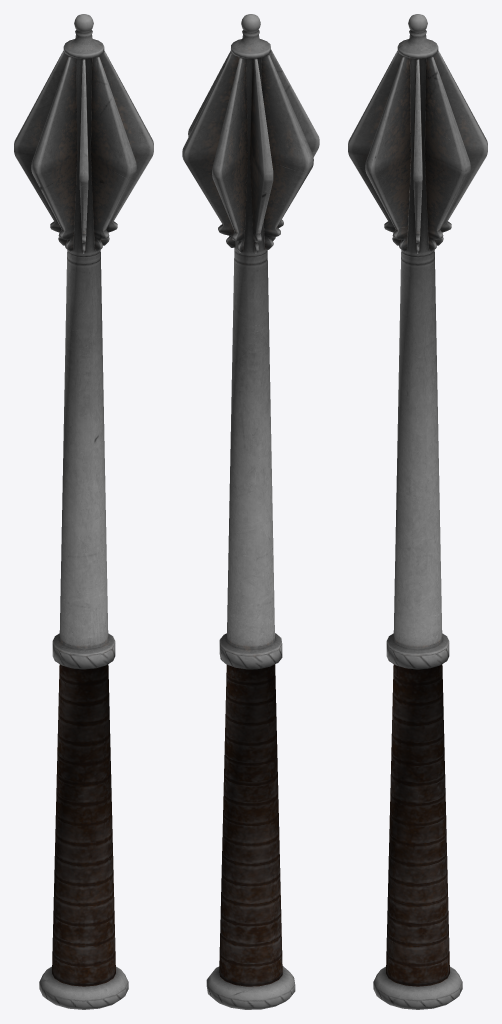
File: SM_Mace_04.fbx
3 renders of one model, left to right at view 1: azimuth 90°, elevation 25°; view 2: azimuth 150°, elevation 25°; view 3: azimuth 270°, elevation 25°, orthographic.
Parts seen in each view (by area): view 1: SM_Mace_04_LOD0; view 2: SM_Mace_04_LOD0; view 3: SM_Mace_04_LOD0.
Part boxes in pixels (bbox=[...]): SM_Mace_04_LOD0: bbox=[14, 14, 153, 1009]; SM_Mace_04_LOD0: bbox=[182, 14, 319, 1009]; SM_Mace_04_LOD0: bbox=[348, 14, 487, 1009].
Size of the model in its own units: 11.84 by 11.84 by 91.35.
Materials: 1 (1 with a texture image).
